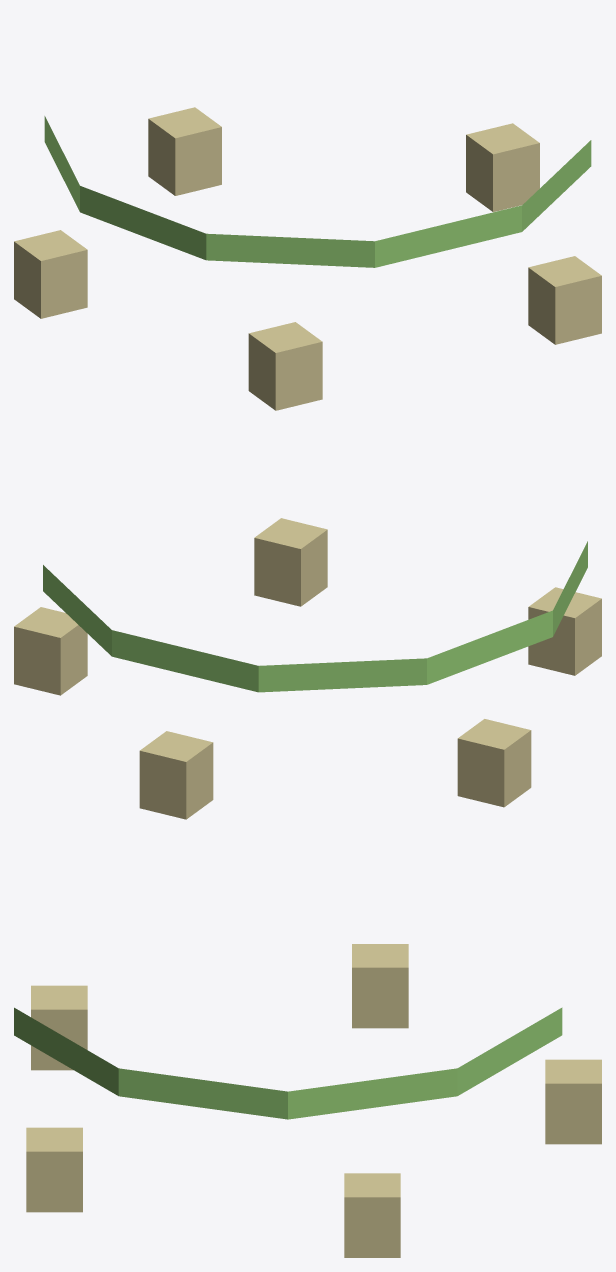
Rendered from Building3_Glow.glb.
3 renders of one model, top to bottom at view 1: azimuth 30°, elevation 25°; view 2: azimuth 150°, elevation 25°; view 3: azimuth 270°, elevation 25°, orthographic. The views are drawn at different scales.
Visible parts, largest first — view 1: Building3_Glow; view 2: Building3_Glow; view 3: Building3_Glow.
Part boxes in pixels (box(x1,y1,x2,y2)): Building3_Glow: box(14, 107, 601, 410); Building3_Glow: box(14, 518, 601, 819); Building3_Glow: box(14, 944, 601, 1257).
Bounding box in the file's own units: 11.66 × 3.45 × 11.43.
